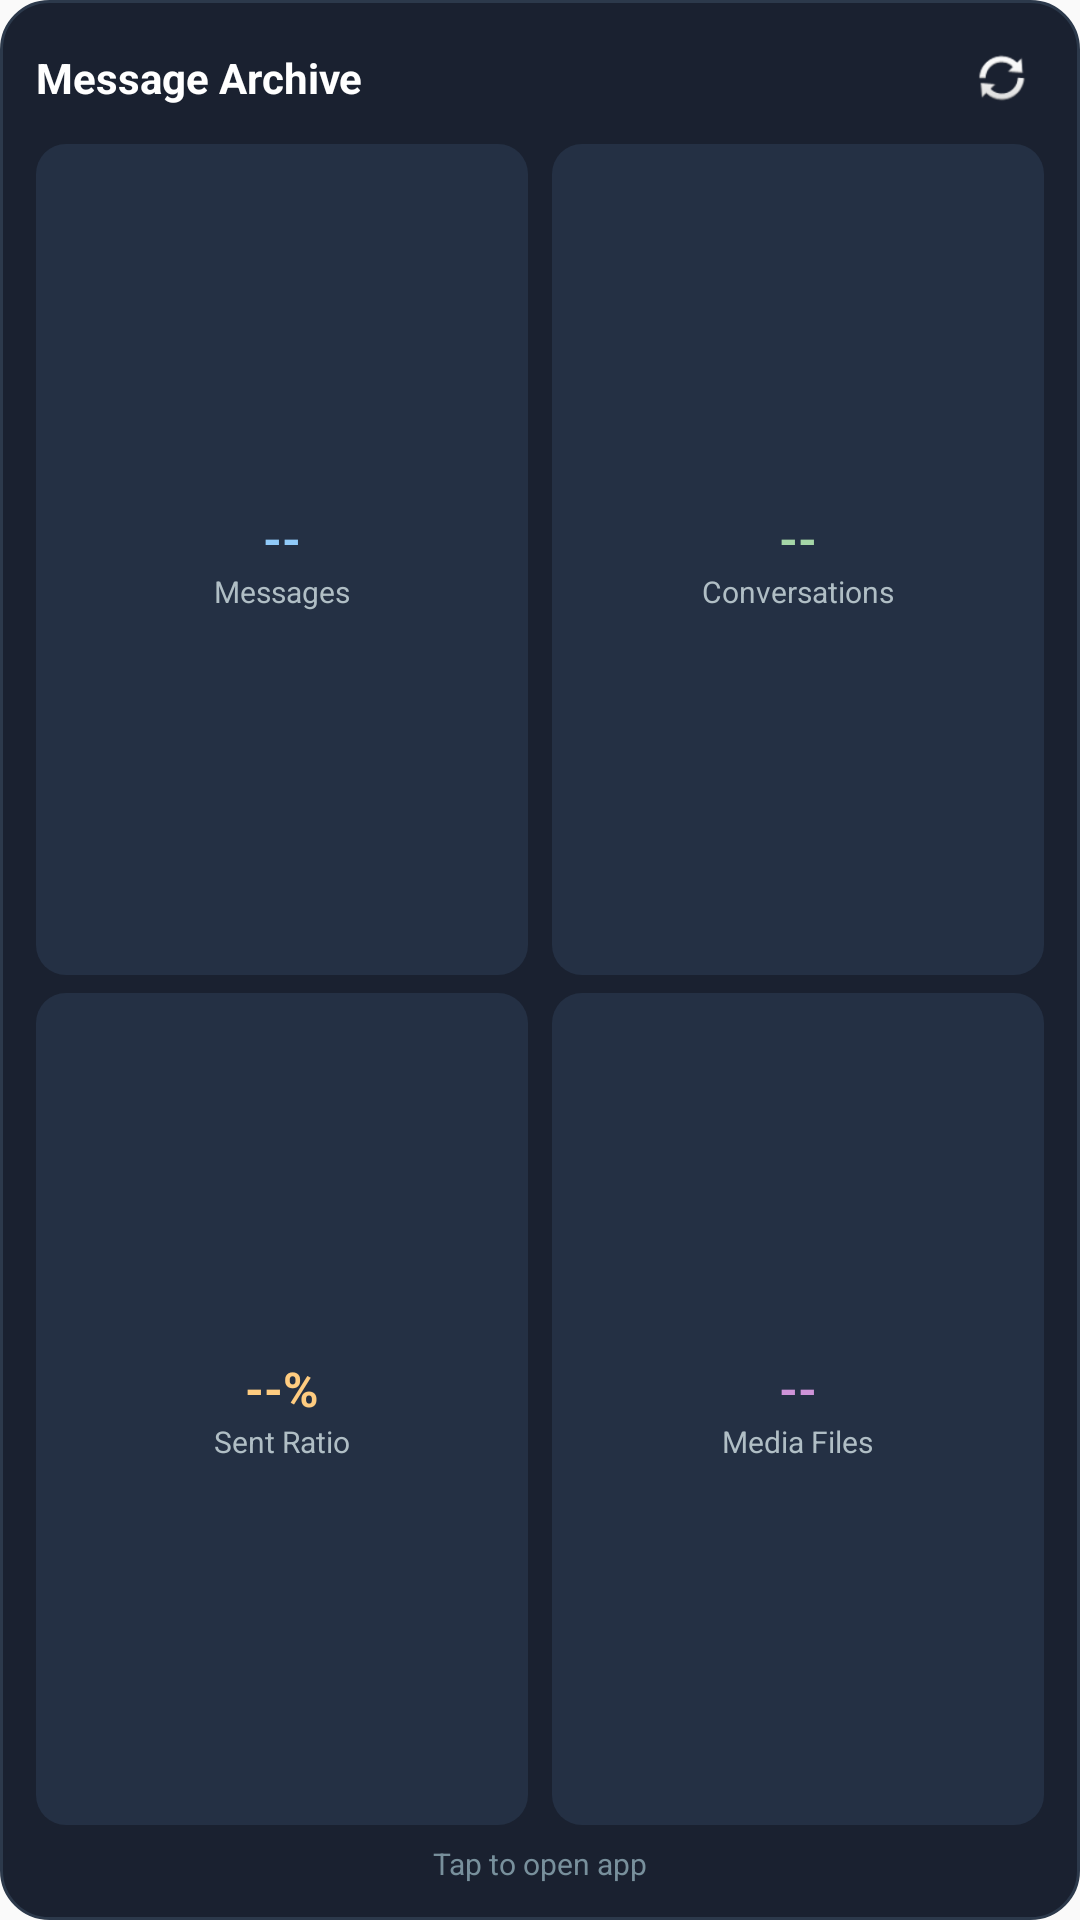

Icon click points for this 1080x1920 phone screenshot, format (x=x, y=y):
popup sync: (x=1002, y=78)
